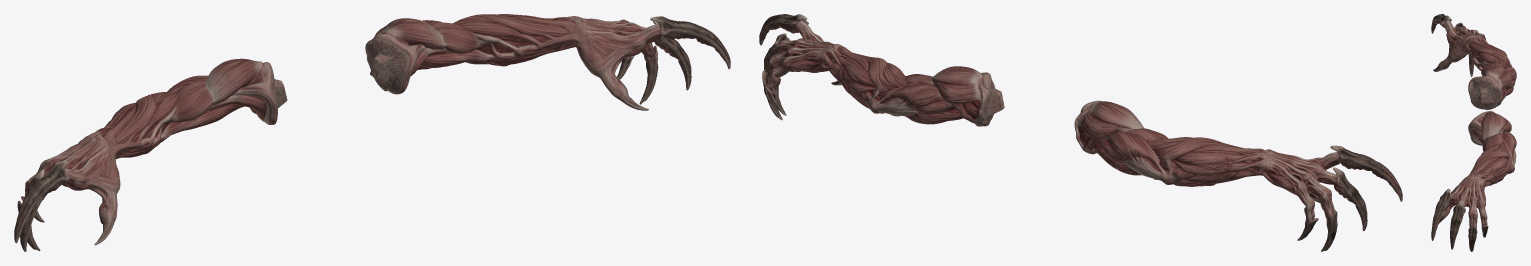
The model's file is aethelred_braco_mutante_antigo.glb.
The picture shows the model from 3 angles, left to right: view 1: azimuth 30°, elevation 25°; view 2: azimuth 150°, elevation 25°; view 3: azimuth 270°, elevation 25°; orthographic projection. The views are drawn at different scales.
Parts seen in each view (by area): view 1: bracos; view 2: bracos; view 3: bracos.
Part boxes in pixels (x1,y1,x2,y2): bracos: (14,14,730,251); bracos: (759,14,1402,251); bracos: (1431,14,1516,251).
Bounding box in the file's own units: 0.0219 × 0.00362 × 0.0038.
1 material, 1 textured.
